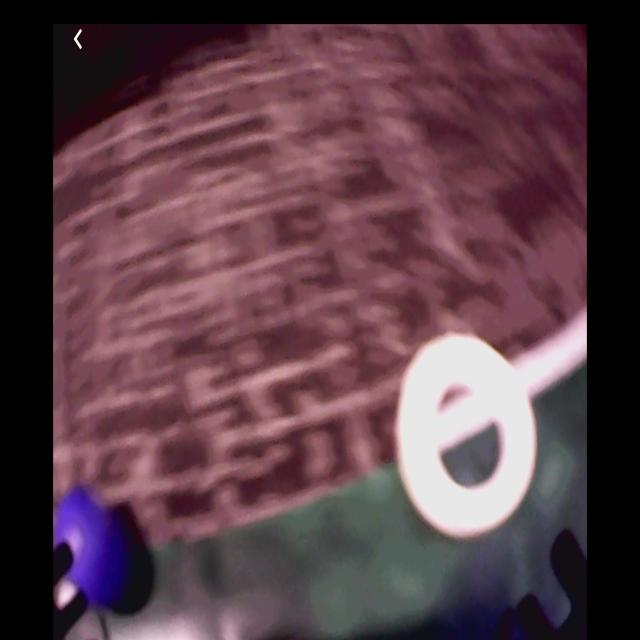ball: (59, 488, 124, 607)
